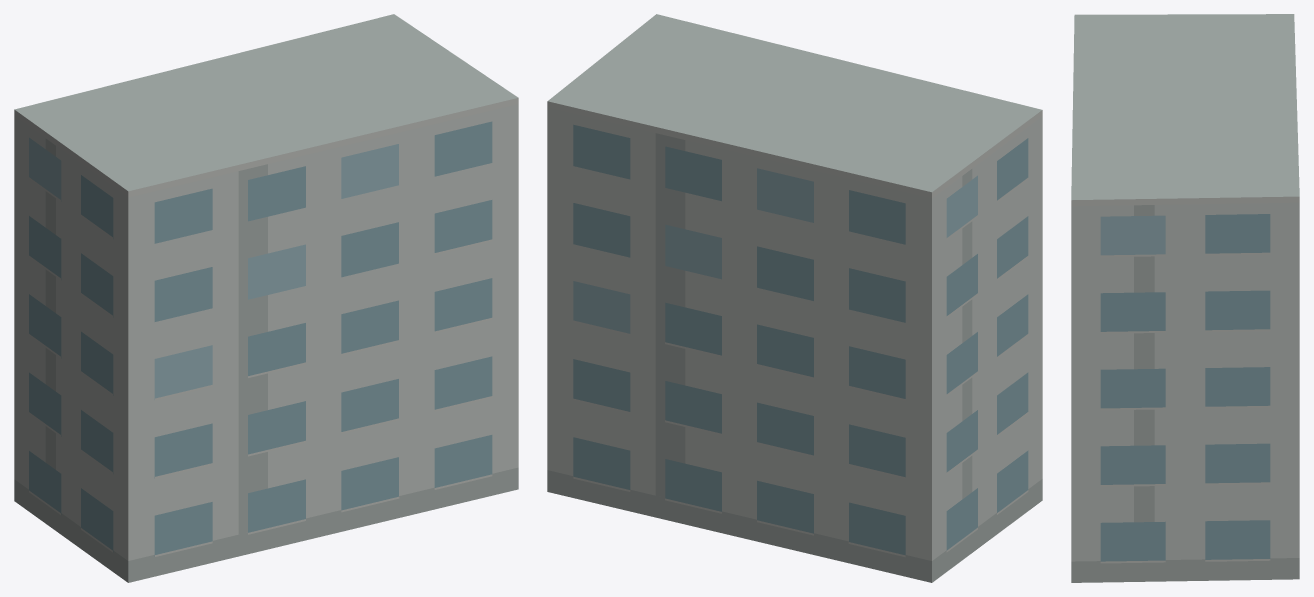
File: survey-upis-32936647.glb
The picture shows the model from 3 angles, left to right: view 1: azimuth 30°, elevation 25°; view 2: azimuth 150°, elevation 25°; view 3: azimuth 270°, elevation 25°; orthographic projection. The views are drawn at different scales.
Visible parts, largest first — view 1: survey-upis-32936647.tmp; view 2: survey-upis-32936647.tmp; view 3: survey-upis-32936647.tmp.
Boxes of the visible parts, x1,y1,x2,y2 form: survey-upis-32936647.tmp: (14, 14, 518, 582); survey-upis-32936647.tmp: (547, 14, 1042, 582); survey-upis-32936647.tmp: (1071, 14, 1299, 582).
Bounding box in the file's own units: 15.91 × 15.25 × 8.26.
